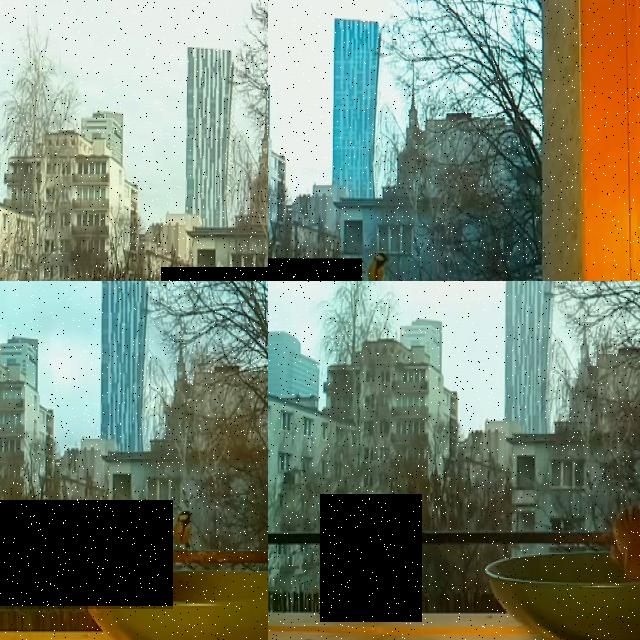Bogatka: (0, 500, 173, 608), (320, 494, 422, 622)
Modraszka: (268, 258, 362, 281)
Wrobel: (605, 503, 640, 583)
